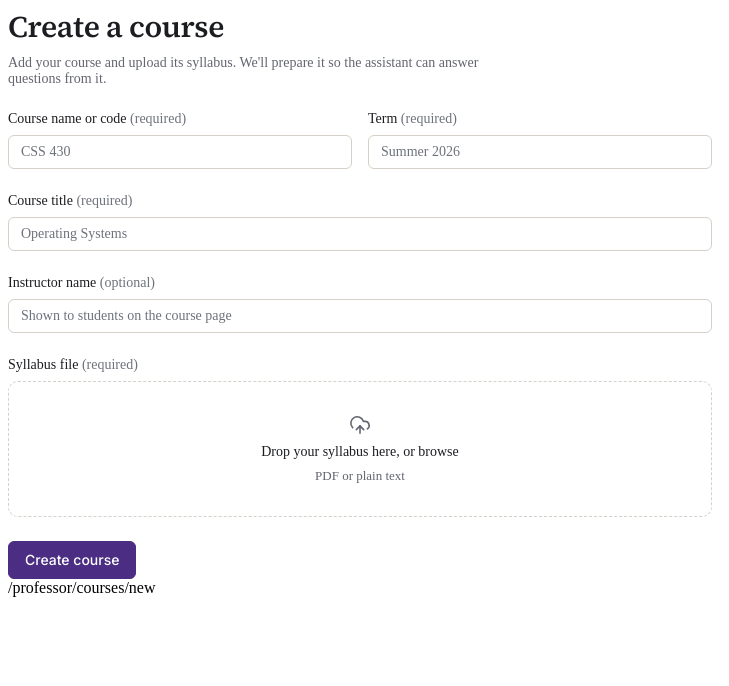
Test case: CreateCoursePage › requires name, title, term, and syllabus file before saving
Click the button "Create course" at (72,560), box [8,541,136,579]
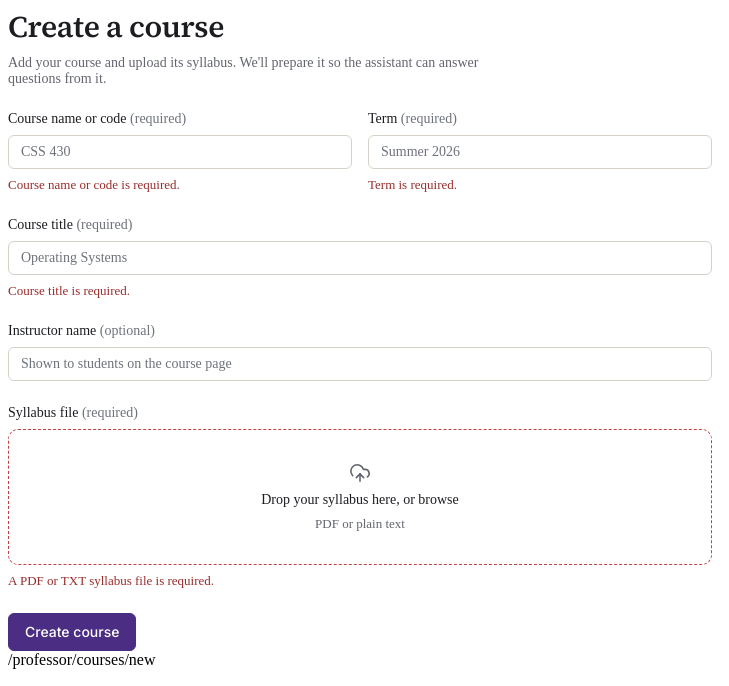
expect the text "Course name or code is required." is shown: met, box [8,177,180,192]
expect the text "Course title is required." is shown: met, box [8,283,130,298]
expect the text "Term is required." is shown: met, box [368,177,457,192]
